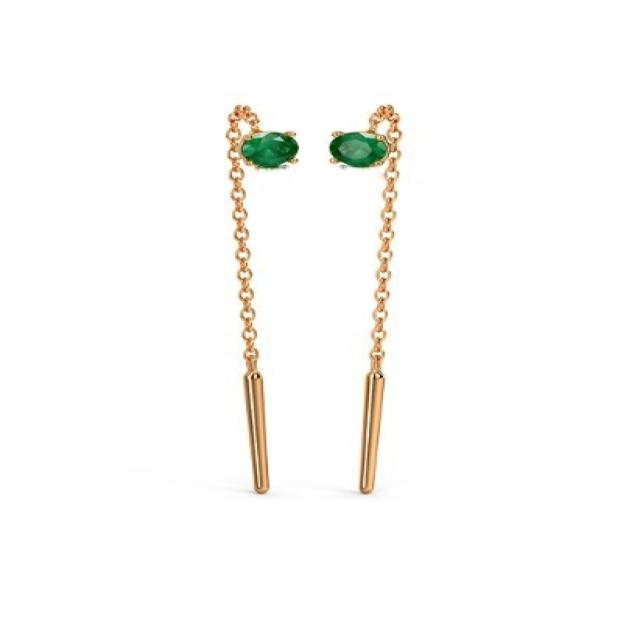missing gem: (339, 165, 382, 174), (255, 165, 292, 175)
